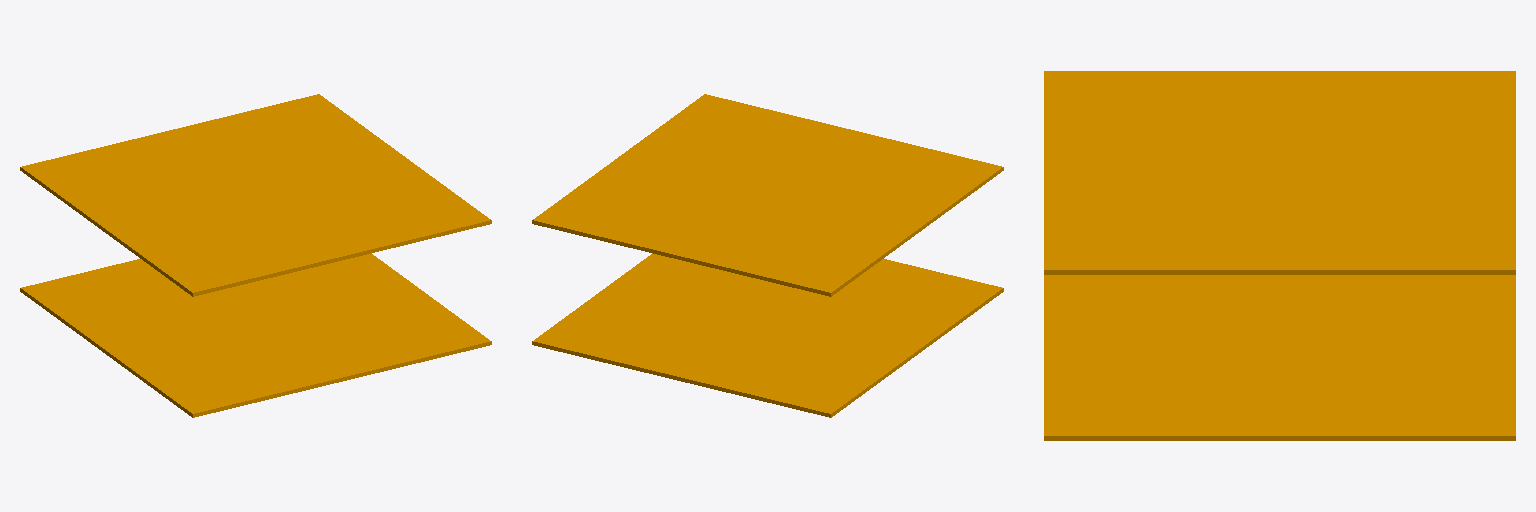
The robot description file, URDF, robot "sand":
<?xml version="1.0" ?>
<robot name="sand">
    <link name="base">
        <contact>
            <lateral_friction value="1"/>
        </contact>
        <inertial>
            <origin rpy="0 0 0" xyz="0 0 0"/>
            <mass value=".0"/>
            <inertia ixx="0" ixy="0" ixz="0" iyy="0" iyz="0" izz="0"/>
        </inertial>

        <visual>
            <origin rpy="0 0 0" xyz="0 0 3.05"/>
            <geometry>
                <box size="8 8 0.1"/>
            </geometry>
        </visual>

        <visual>
            <origin rpy="0 0 0" xyz="0 0 -0.05"/>
            <geometry>
                <box size="8 8 0.1"/>
            </geometry>
        </visual>
    </link>
</robot>

--- What the picture shows (computed from the rendered views, not written in the file) ---
The picture shows the robot from 3 angles, left to right: view 1: azimuth 30°, elevation 25°; view 2: azimuth 150°, elevation 25°; view 3: azimuth 270°, elevation 25°; orthographic projection.
Robot: sand — 1 links, 0 joints (none); root link base; default pose: every joint at zero.
Links seen in each view (by area): view 1: base; view 2: base; view 3: base.
Boxes of the visible links, x1,y1,x2,y2 form: base: (20,94,491,417); base: (532,94,1003,417); base: (1044,71,1515,440).
Bounding box of the posed robot: 8 × 8 × 3.2 m (x, y, z).
Geometry: primitives only (box / cylinder / sphere), no mesh files.